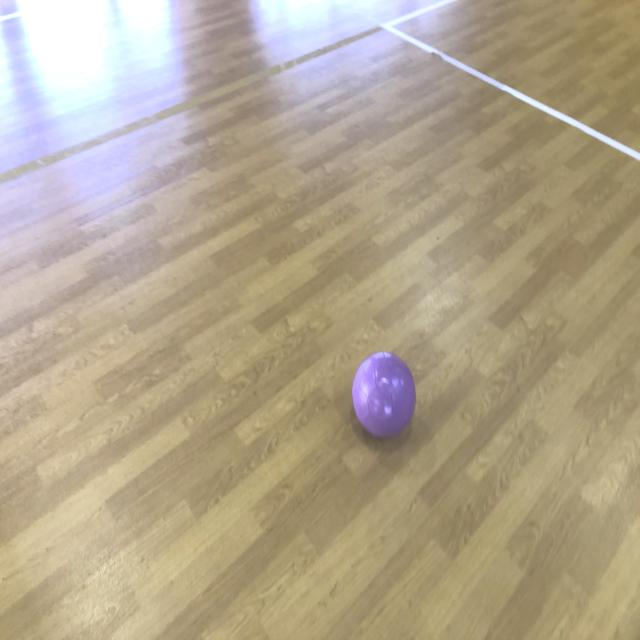purple_ball: (353, 352, 415, 437)
